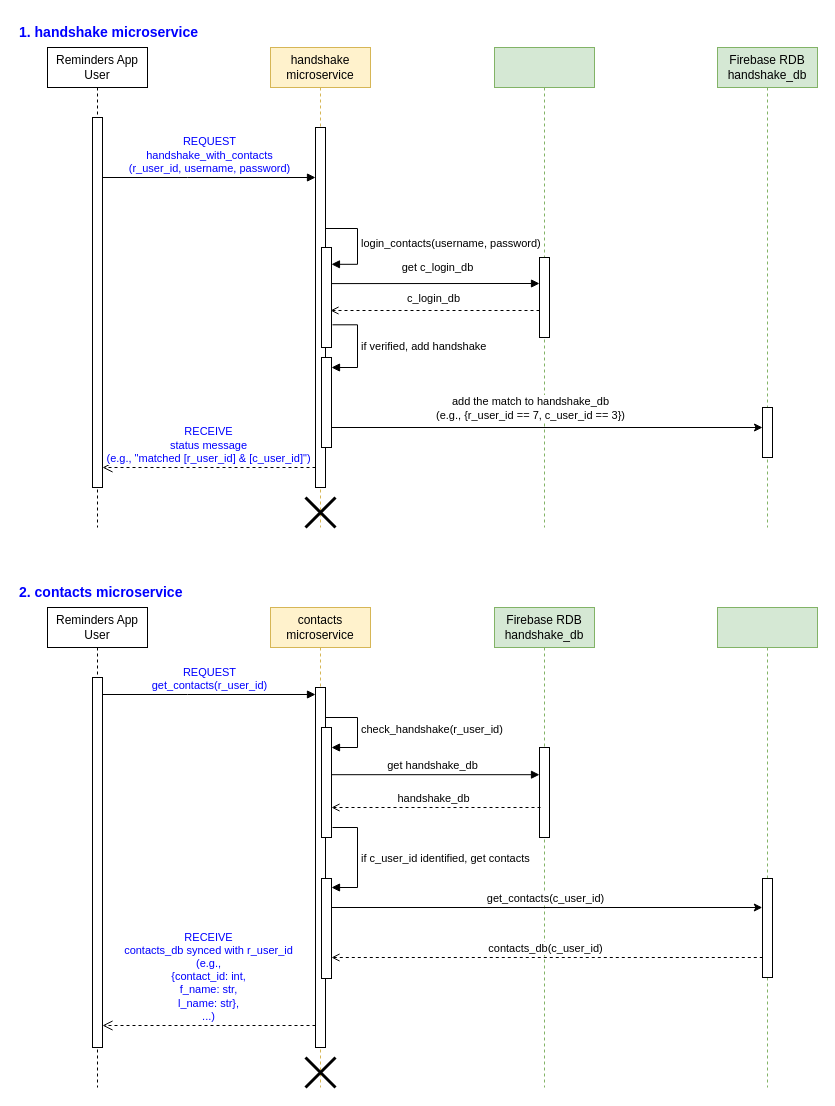
Image size: 835x1106. Some labels were removed from this diagram. Each missing label, with the centre of its shape:
Firebase RDB c_login_db: the point at 544,287
Firebase RDB contacts_db: the point at 767,847
